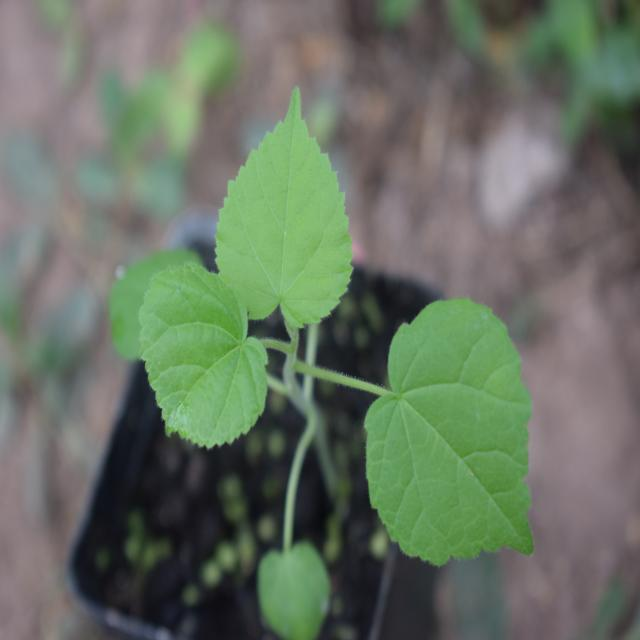abutilon theophrasti: (129, 97, 531, 585)
